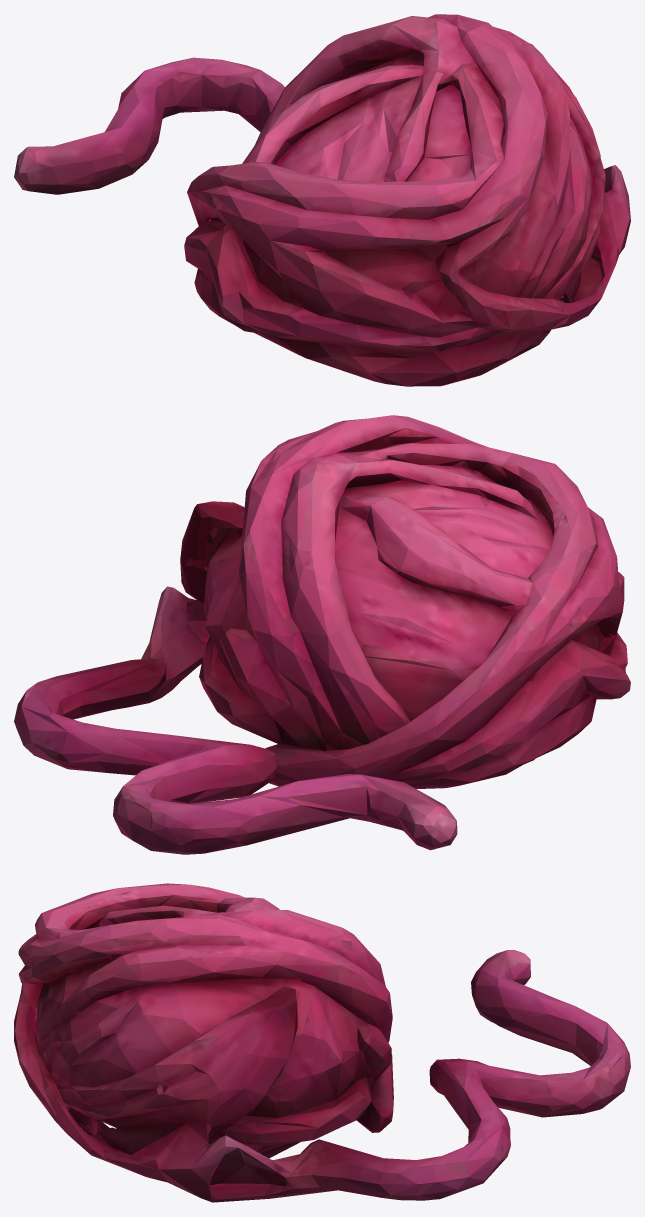
The model's file is yarn.glb.
3 views of the same model, one above another, from view 1: azimuth 30°, elevation 25°; view 2: azimuth 150°, elevation 25°; view 3: azimuth 270°, elevation 25° (orthographic). The views are drawn at different scales.
Visible parts, largest first — view 1: geometry_0; view 2: geometry_0; view 3: geometry_0.
Boxes of the visible parts, x1=… form: geometry_0: x1=14, y1=14, x2=630, y2=386; geometry_0: x1=14, y1=415, x2=630, y2=854; geometry_0: x1=14, y1=883, x2=630, y2=1202.
Size of the model in its own units: 0.2572 by 0.1477 by 0.3249.
Materials: 1 (1 with a texture image).
